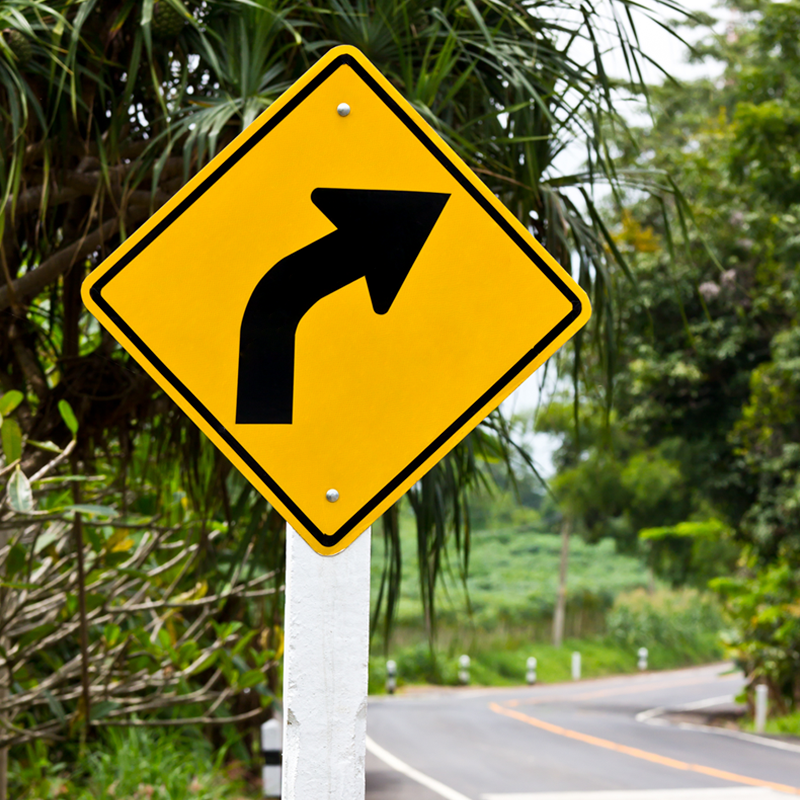right: (72, 43, 593, 562)
